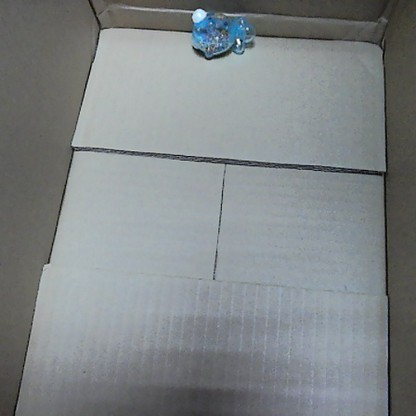bluefish: (185, 5, 256, 62)
